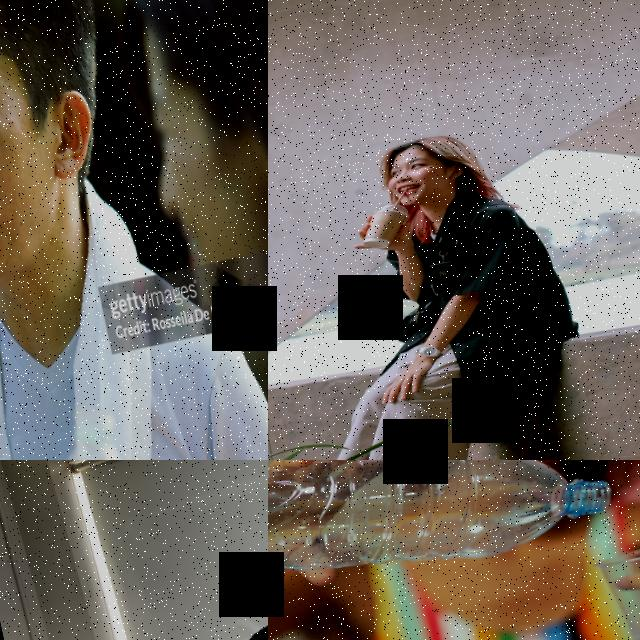bottle: (268, 460, 630, 622)
cup: (589, 532, 640, 640), (358, 198, 418, 250)
